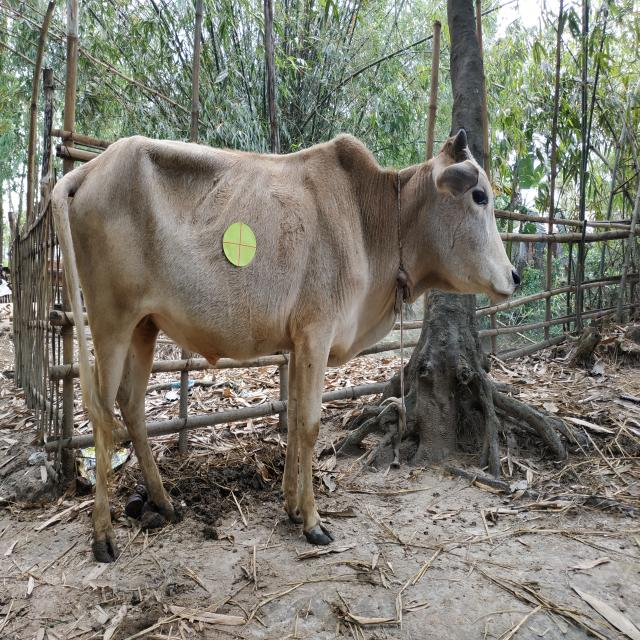badan_sapi: (77, 146, 362, 363)
sapi: (47, 124, 526, 572)
